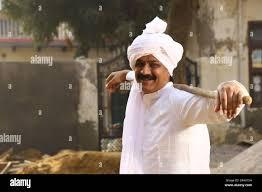Human: (101, 25, 254, 179)
